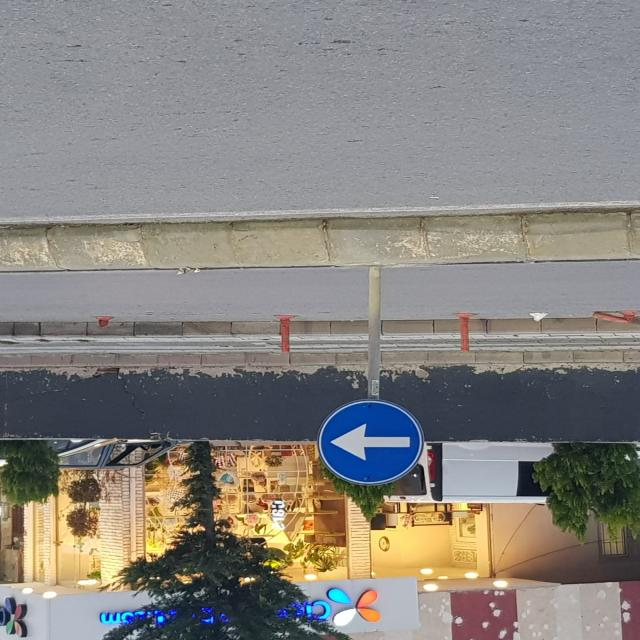Turn Left: (313, 398, 427, 483)
